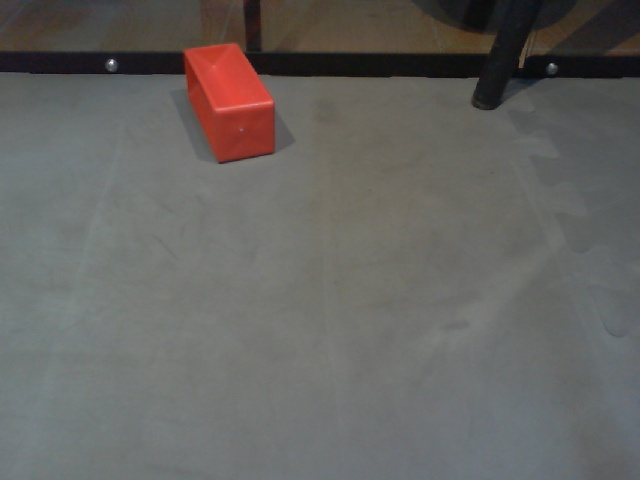RedSample: (180, 42, 279, 164)
